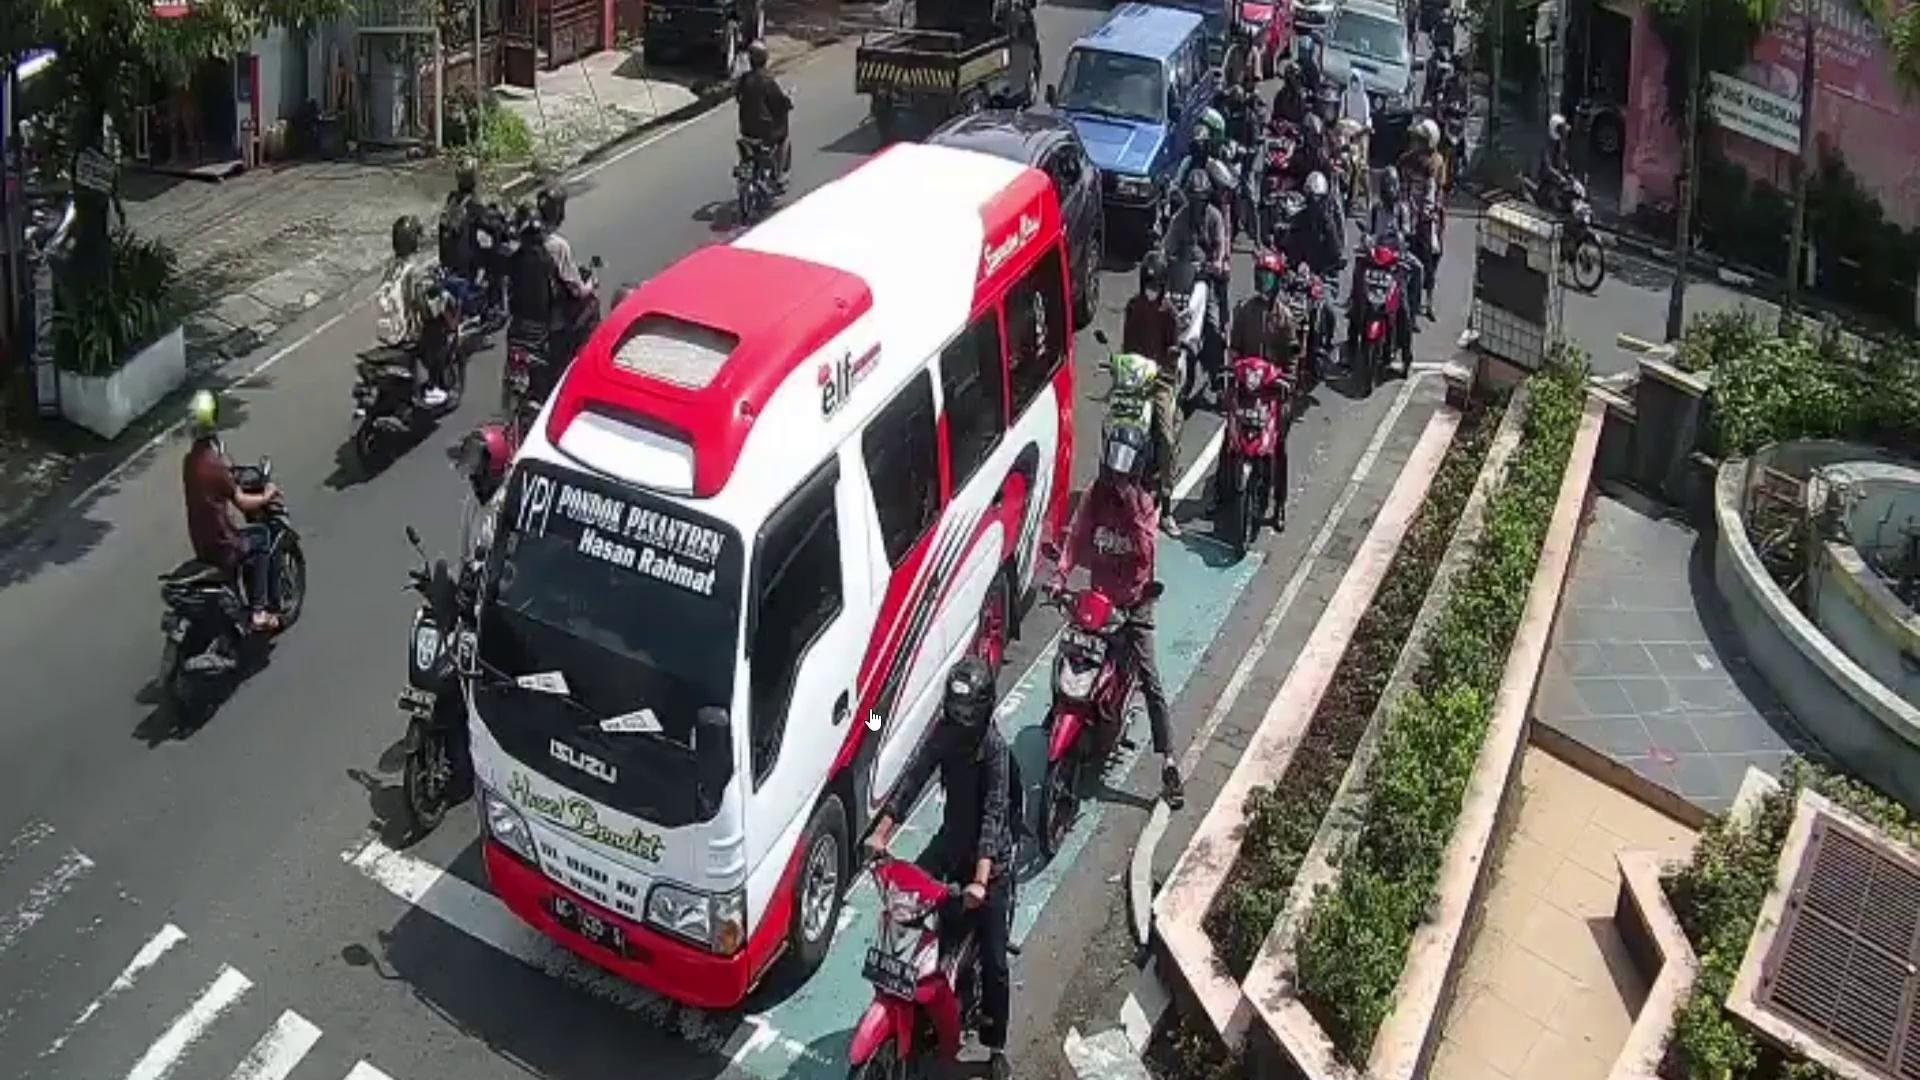bus: (471, 138, 1073, 1002)
car: (1052, 0, 1221, 244), (938, 105, 1110, 310), (857, 0, 1043, 112), (1316, 0, 1424, 158)
motorbike: (152, 460, 306, 731), (856, 847, 997, 1080), (1047, 585, 1138, 848), (353, 282, 467, 473), (401, 580, 477, 829), (1089, 353, 1170, 526), (1509, 169, 1606, 302), (723, 87, 796, 228), (1228, 365, 1280, 555), (1354, 241, 1402, 384)
